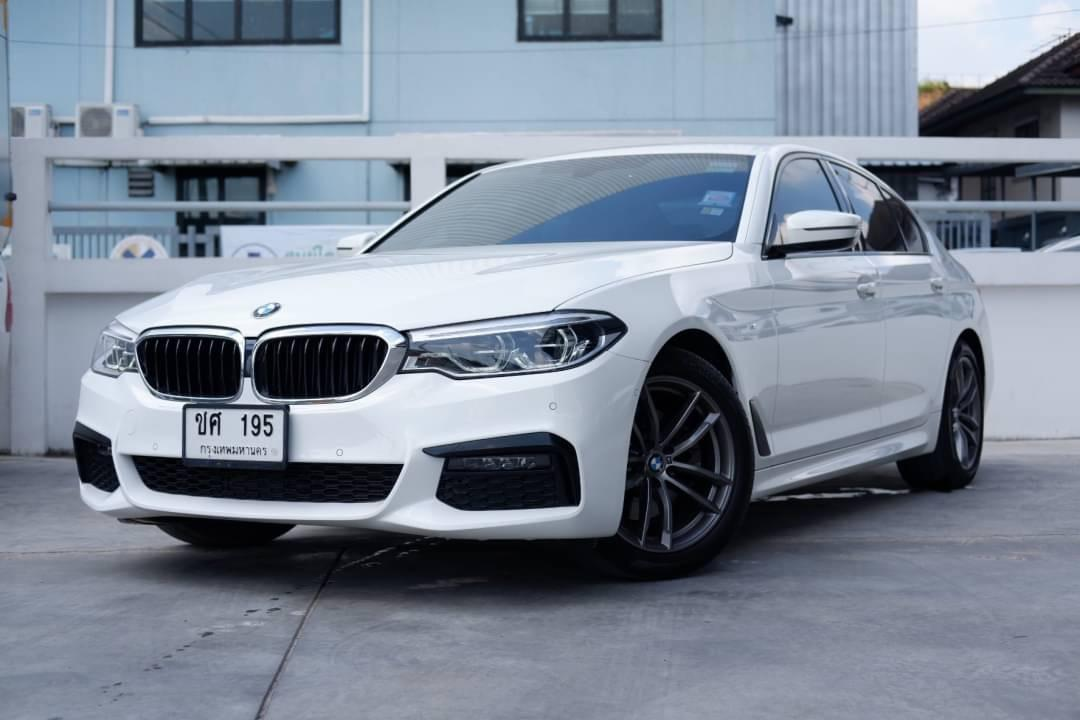license-plate: (182, 400, 291, 468)
